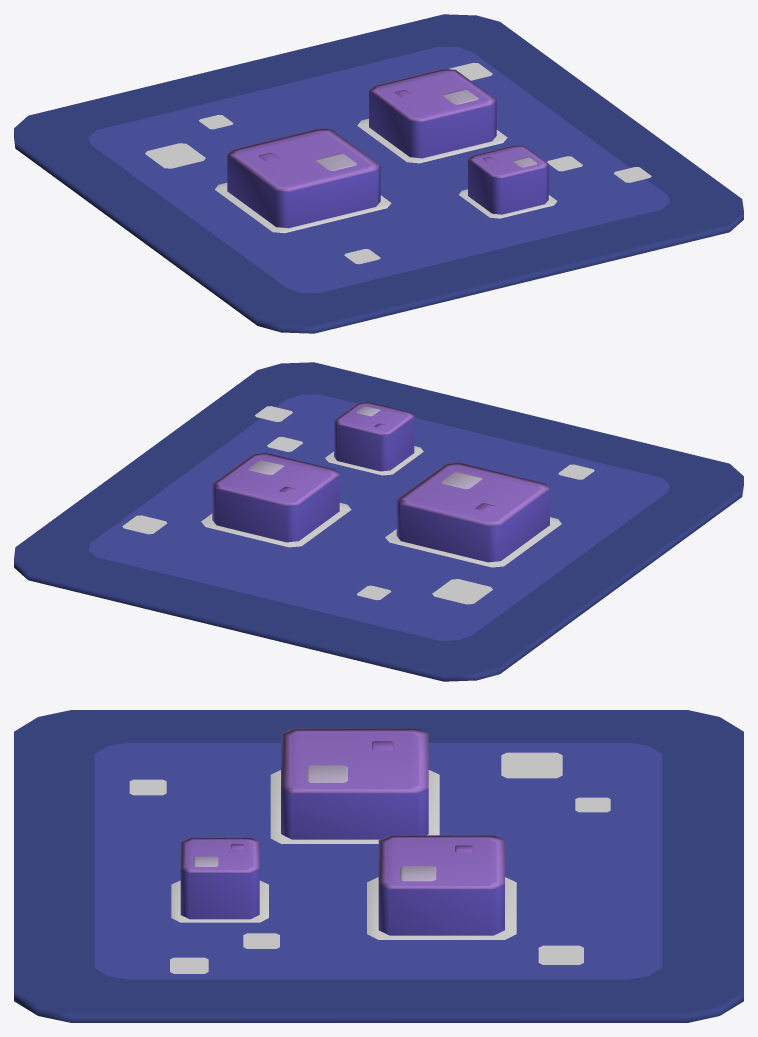
File: BC_cookrecipe_S_10.fbx
3 views of the same model, one above another, from view 1: azimuth 30°, elevation 25°; view 2: azimuth 150°, elevation 25°; view 3: azimuth 270°, elevation 25° (orthographic). The views are drawn at different scales.
Visible parts, largest first — view 1: base, cube3, cube1, cube5, cube4, cube2, boko3, cube6; view 2: base, cube3, cube1, cube5, cube4, cube2, boko3, boko4, cube6; view 3: base, cube3, cube1, cube5, cube2, cube4, boko3, cube6, boko4, boko2, boko1, boko5 (+1 smaller).
Part boxes in pixels (x1=…): base: x1=14, y1=14, x2=743, y2=333; cube3: x1=227, y1=128, x2=380, y2=228; cube1: x1=369, y1=68, x2=496, y2=158; cube5: x1=468, y1=145, x2=548, y2=214; cube4: x1=215, y1=182, x2=391, y2=233; cube2: x1=357, y1=118, x2=507, y2=163; boko3: x1=145, y1=143, x2=205, y2=168; cube6: x1=459, y1=189, x2=557, y2=218; base: x1=14, y1=362, x2=743, y2=681; cube3: x1=396, y1=462, x2=549, y2=562; cube1: x1=212, y1=452, x2=339, y2=542; cube5: x1=334, y1=402, x2=414, y2=471; cube4: x1=385, y1=517, x2=561, y2=567; cube2: x1=201, y1=503, x2=351, y2=547; boko3: x1=432, y1=579, x2=492, y2=604; boko4: x1=122, y1=515, x2=167, y2=534; cube6: x1=325, y1=446, x2=423, y2=475; base: x1=14, y1=710, x2=743, y2=1022; cube3: x1=281, y1=728, x2=428, y2=839; cube1: x1=378, y1=835, x2=504, y2=935; cube5: x1=180, y1=837, x2=259, y2=919; cube2: x1=367, y1=877, x2=516, y2=939; cube4: x1=270, y1=770, x2=439, y2=843; boko3: x1=501, y1=752, x2=562, y2=778; cube6: x1=171, y1=880, x2=268, y2=922; boko4: x1=538, y1=945, x2=583, y2=964; boko2: x1=170, y1=957, x2=208, y2=973; boko1: x1=129, y1=779, x2=166, y2=795; boko5: x1=243, y1=933, x2=279, y2=948.
Size of the model in its own units: 3.43 by 0.3638 by 3.51.
